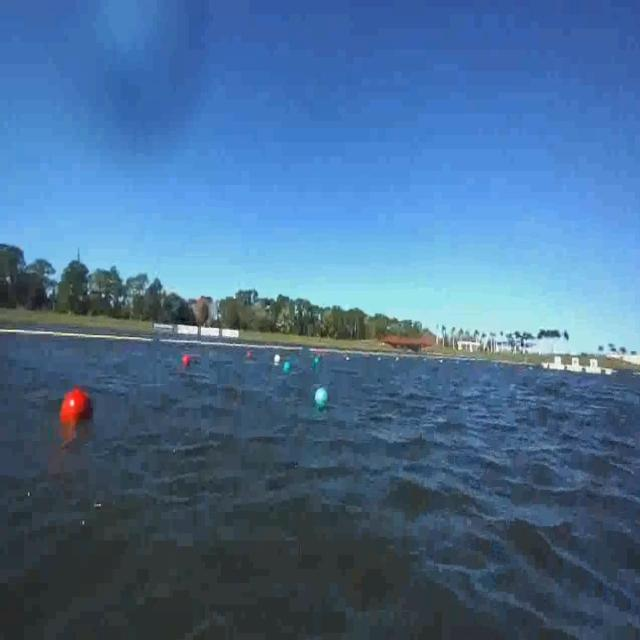green-buoy: (314, 385, 328, 409), (284, 360, 292, 373)
red-buoy: (61, 390, 95, 429), (182, 354, 191, 366), (185, 355, 193, 366)
